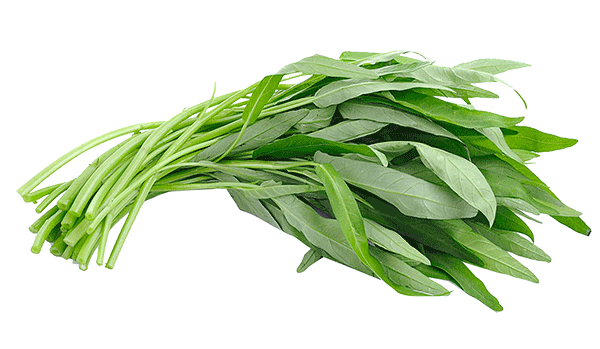Kangkung: (21, 47, 578, 316)
